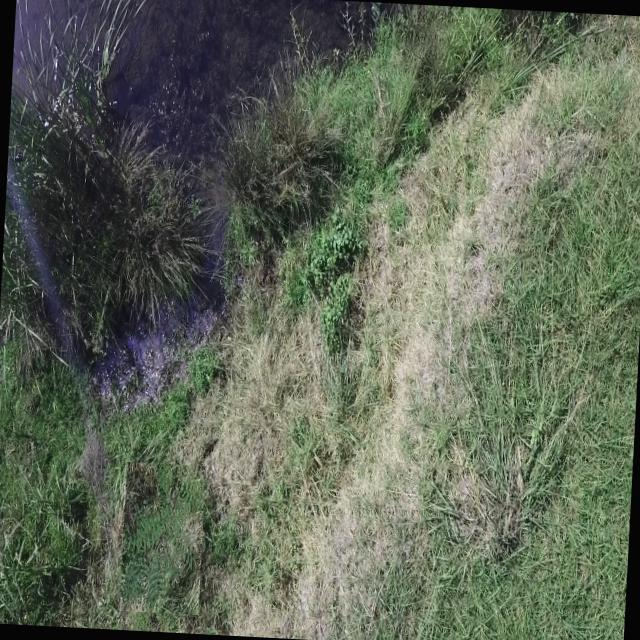Mysore-Thorn-Weed: (120, 462, 206, 615)
